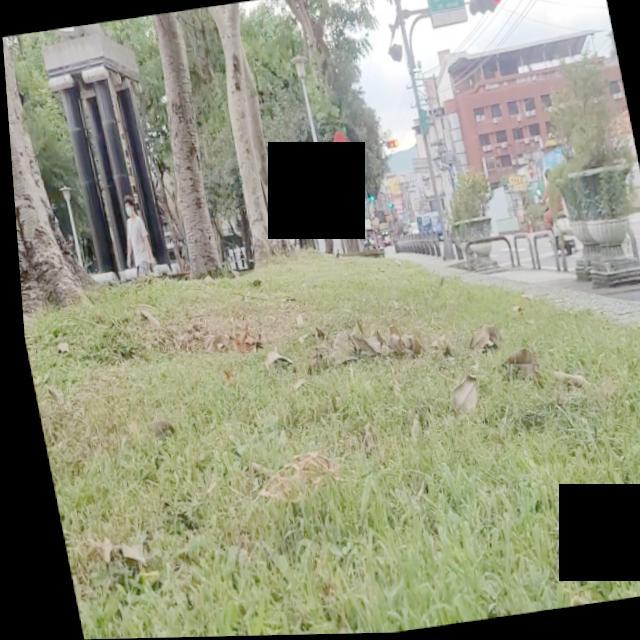Tree: (3, 31, 98, 324), (199, 3, 295, 274), (139, 13, 228, 279)
